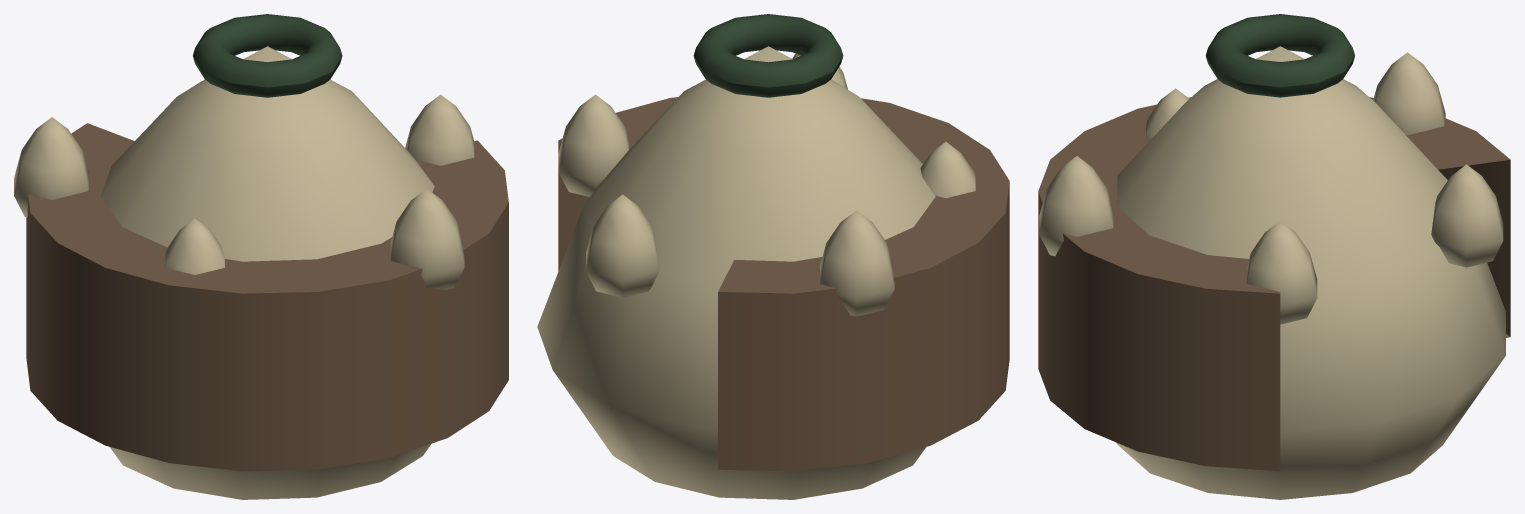
Rendered from cocoon_husk.obj.
3 views of the same model, side by side, from view 1: azimuth 30°, elevation 25°; view 2: azimuth 150°, elevation 25°; view 3: azimuth 270°, elevation 25° (orthographic).
Visible parts, largest first — view 1: cocoon_husk; view 2: cocoon_husk; view 3: cocoon_husk.
Boxes of the visible parts, x1=… form: cocoon_husk: x1=14, y1=14, x2=508, y2=499; cocoon_husk: x1=537, y1=14, x2=1009, y2=499; cocoon_husk: x1=1038, y1=14, x2=1510, y2=499.
Size of the model in its own units: 1.36 by 1.37 by 1.33.
